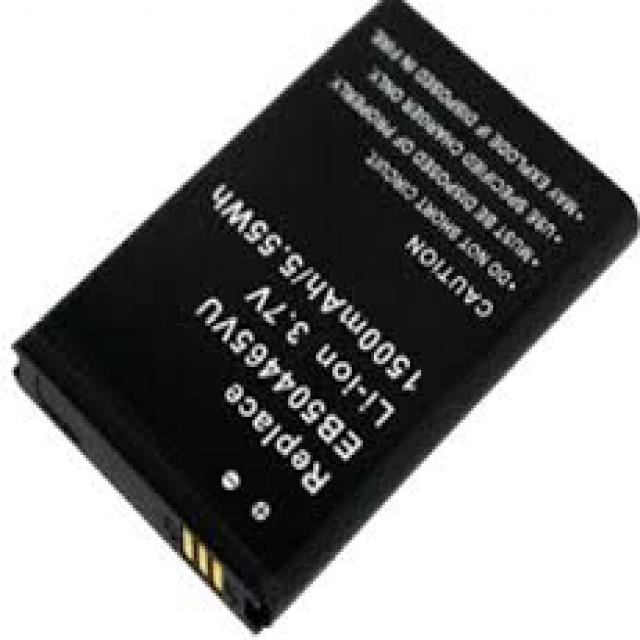hazard: (11, 0, 640, 617)
